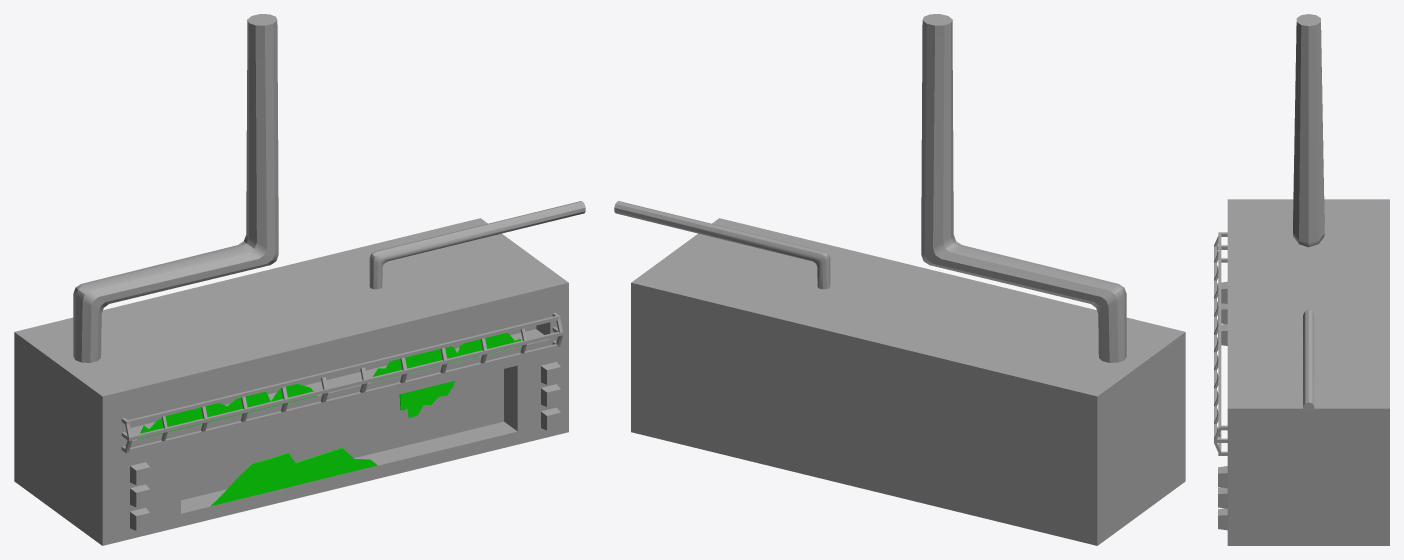
Rendered from MaquinaLabA.fbx.
3 views of the same model, side by side, from view 1: azimuth 30°, elevation 25°; view 2: azimuth 150°, elevation 25°; view 3: azimuth 270°, elevation 25° (orthographic). The views are drawn at different scales.
Visible parts, largest first — view 1: MaquinaBase2; view 2: MaquinaBase2; view 3: MaquinaBase2.
Part boxes in pixels (bbox=[...]): MaquinaBase2: bbox=[14, 14, 585, 545]; MaquinaBase2: bbox=[614, 14, 1185, 545]; MaquinaBase2: bbox=[1214, 14, 1389, 545].
Bounding box in the file's own units: 3.45 × 2.8 × 1.09.
